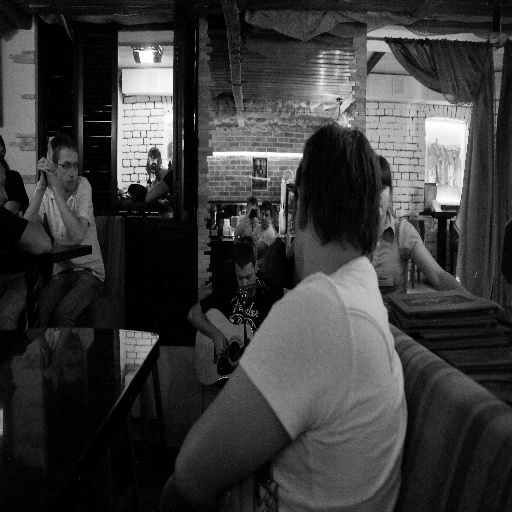hand: (36, 140, 60, 189), (38, 141, 56, 185), (213, 329, 227, 354), (244, 205, 257, 218)
